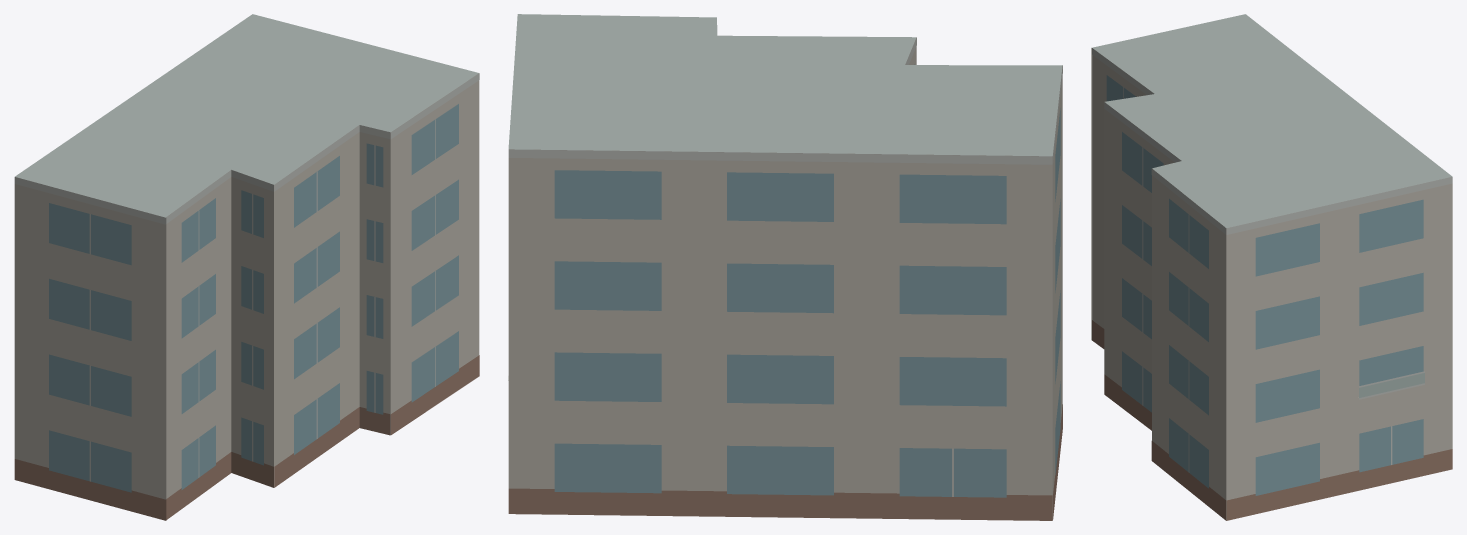
Rendered from survey-upis-32784300.glb.
3 views of the same model, side by side, from view 1: azimuth 30°, elevation 25°; view 2: azimuth 150°, elevation 25°; view 3: azimuth 270°, elevation 25° (orthographic). The views are drawn at different scales.
Parts seen in each view (by area): view 1: survey-upis-32784300.tmp; view 2: survey-upis-32784300.tmp; view 3: survey-upis-32784300.tmp.
Part boxes in pixels (box(x1,y1,x2,y2)): survey-upis-32784300.tmp: box(14, 14, 479, 520); survey-upis-32784300.tmp: box(508, 14, 1062, 520); survey-upis-32784300.tmp: box(1091, 14, 1452, 520).
Bounding box in the file's own units: 16.5 × 10.5 × 11.76.
